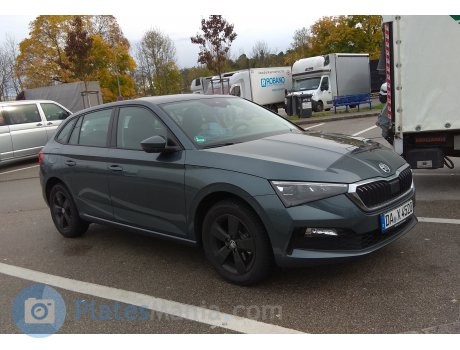License Plates: (379, 204, 417, 223)
